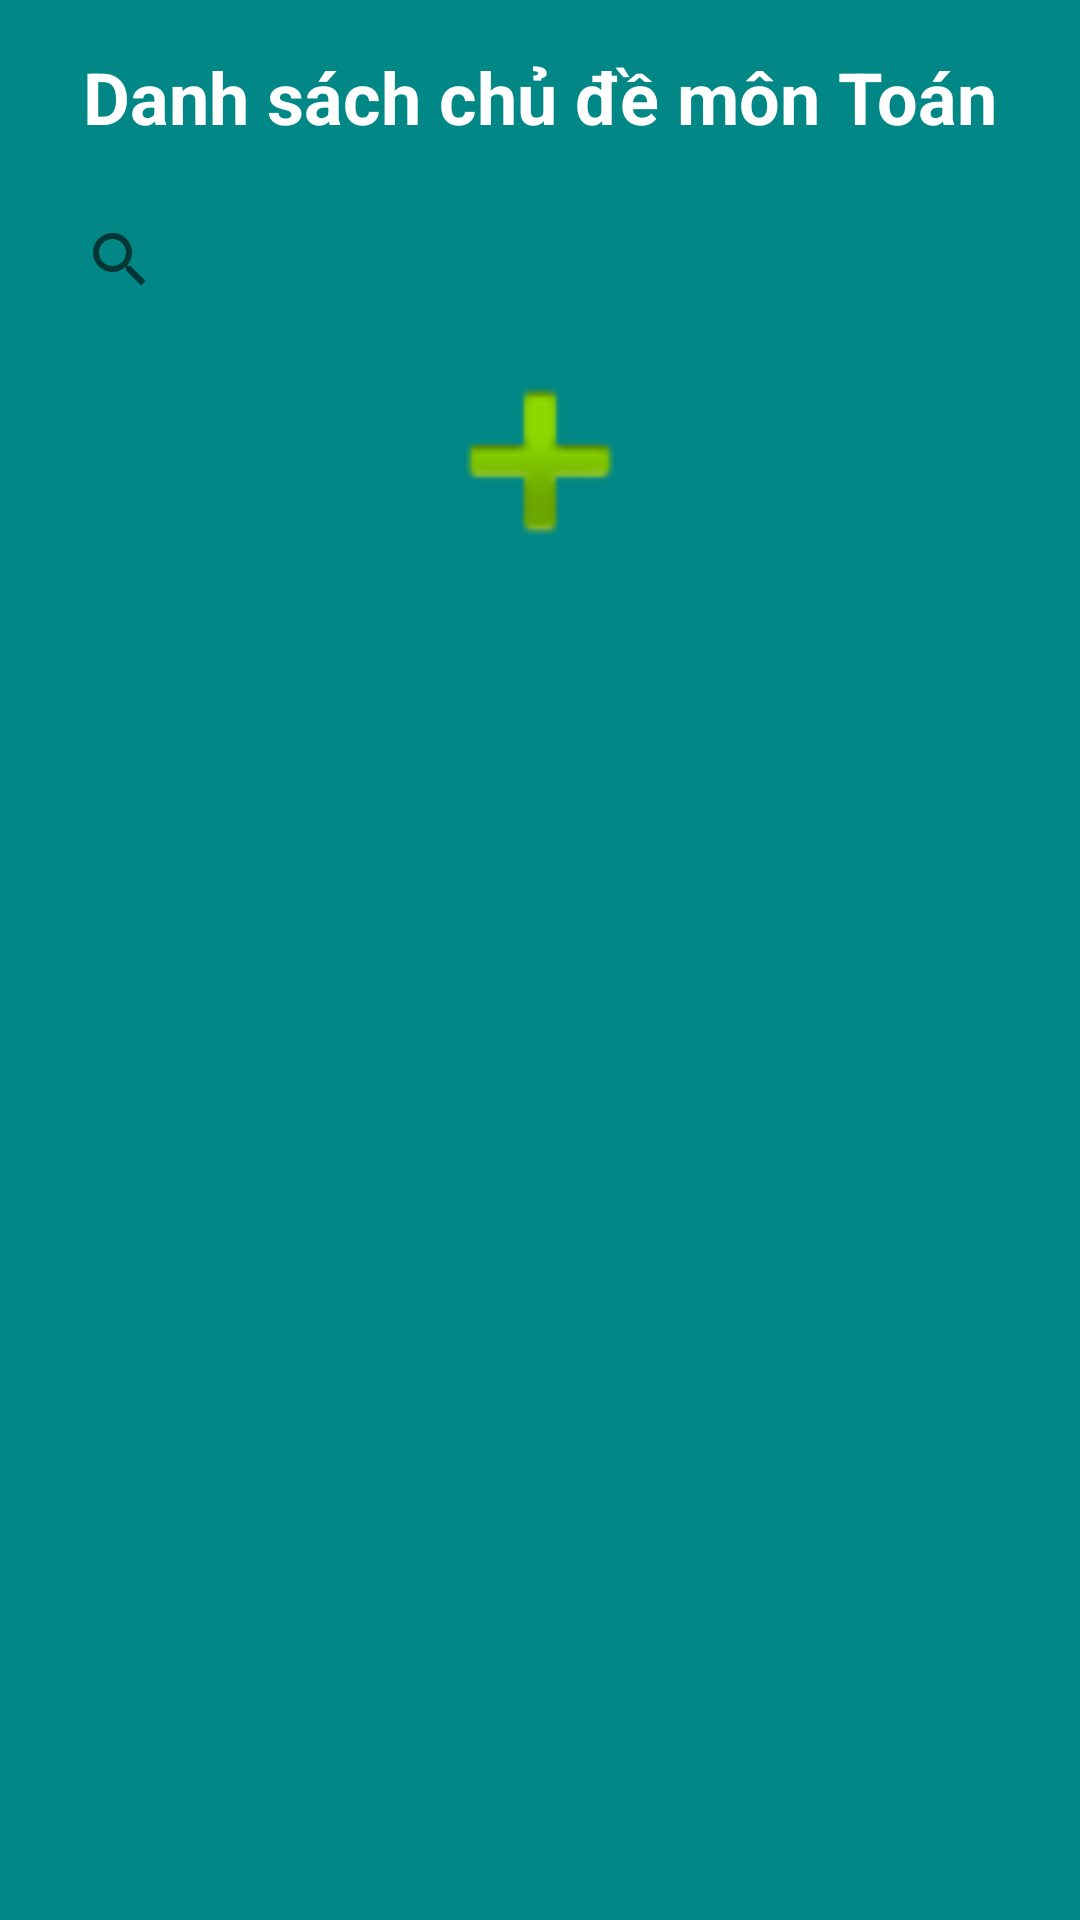

Where to tap for icons on this 1080x1920 app screen, as (x=x, y=y):
add: (x=540, y=461)
